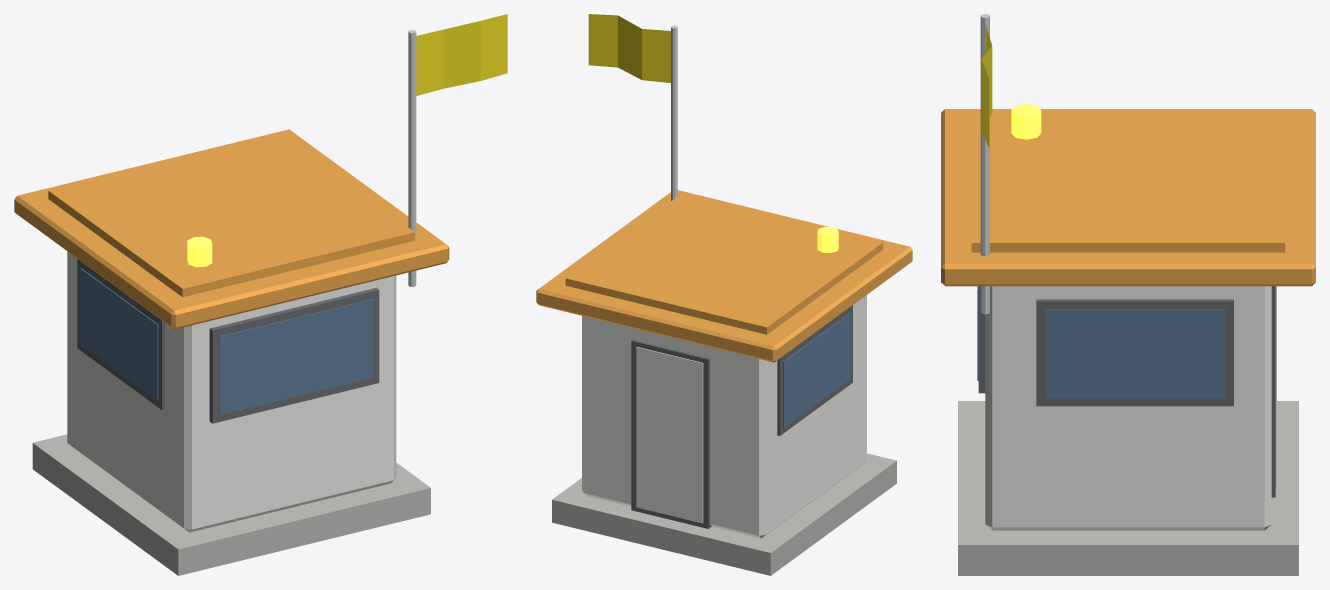
The model's file is marshal_post.glb.
3 renders of one model, left to right at view 1: azimuth 30°, elevation 25°; view 2: azimuth 150°, elevation 25°; view 3: azimuth 270°, elevation 25°, orthographic. The views are drawn at different scales.
Parts seen in each view (by area): view 1: cabin, roof_cap, plinth, roof, win_front_glass, win_sides_glass, marshal_flag, win_front_frame, win_sides_frame, pole, beacon; view 2: cabin, roof_cap, plinth, roof, door_panel, win_sides_glass, marshal_flag, door_frame, win_sides_frame, pole, beacon; view 3: cabin, roof_cap, roof, plinth, win_sides_glass, win_sides_frame, pole, marshal_flag, door_frame, beacon, win_front_frame.
Part boxes in pixels (<box>): cabin: <box>67,251,396,532</box>; roof_cap: <box>48,134,414,297</box>; plinth: <box>32,434,430,575</box>; roof: <box>14,129,449,329</box>; win_front_glass: <box>219,299,373,414</box>; win_sides_glass: <box>80,268,158,400</box>; marshal_flag: <box>416,14,507,95</box>; win_front_frame: <box>209,288,379,423</box>; win_sides_frame: <box>77,259,164,409</box>; pole: <box>408,30,416,286</box>; beacon: <box>187,236,212,267</box>; cabin: <box>582,295,866,538</box>; roof_cap: <box>565,193,883,334</box>; plinth: <box>552,453,896,575</box>; roof: <box>536,190,912,362</box>; door_panel: <box>636,347,703,523</box>; win_sides_glass: <box>783,313,850,427</box>; marshal_flag: <box>588,14,670,82</box>; door_frame: <box>631,340,711,528</box>; win_sides_frame: <box>777,305,852,435</box>; pole: <box>671,25,677,200</box>; beacon: <box>817,226,838,253</box>; cabin: <box>985,286,1271,530</box>; roof_cap: <box>971,110,1285,252</box>; roof: <box>941,109,1315,286</box>; plinth: <box>958,401,1298,575</box>; win_sides_glass: <box>1045,309,1225,398</box>; win_sides_frame: <box>1036,299,1233,406</box>; pole: <box>980,14,989,314</box>; marshal_flag: <box>981,25,992,147</box>; door_frame: <box>1271,286,1275,497</box>; beacon: <box>1011,103,1041,139</box>; win_front_frame: <box>978,286,985,393</box>.
Bounding box in the file's own units: 3.52 × 4.5 × 2.75.
